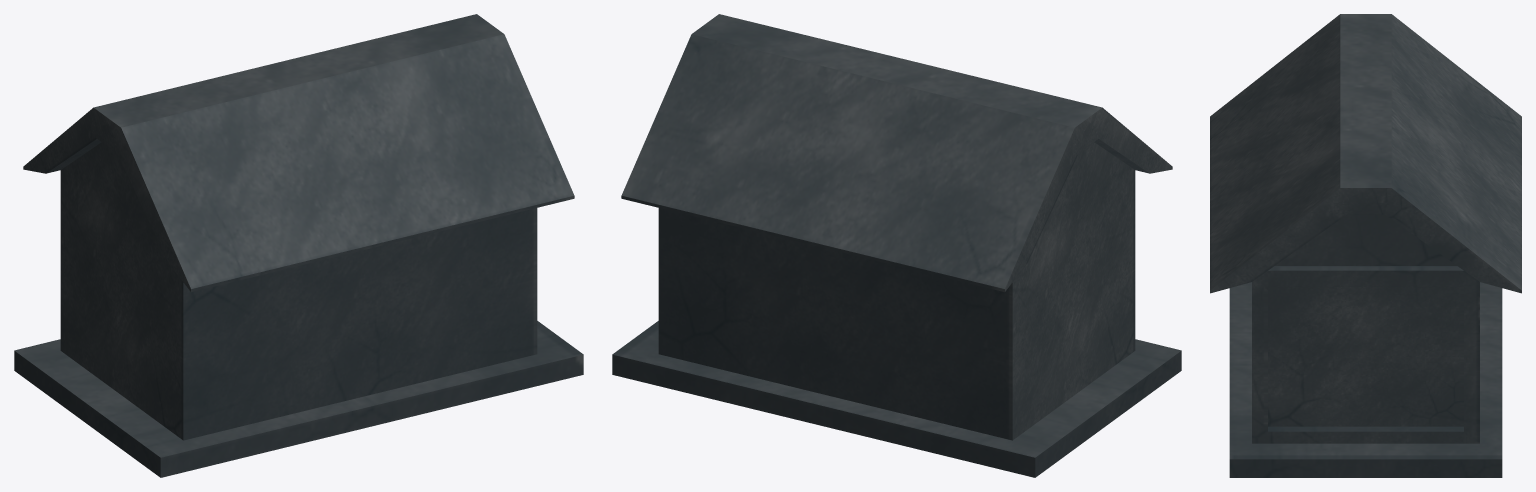
File: RaisedGrave1_Model.fbx
3 renders of one model, left to right at view 1: azimuth 30°, elevation 25°; view 2: azimuth 150°, elevation 25°; view 3: azimuth 270°, elevation 25°, orthographic. The views are drawn at different scales.
Parts seen in each view (by area): view 1: Box048; view 2: Box048; view 3: Box048.
Part boxes in pixels (x1,y1,x2,y2): Box048: [14, 14, 583, 477]; Box048: [612, 14, 1181, 477]; Box048: [1210, 14, 1521, 477].
Size of the model in its own units: 159 by 109 by 109.
